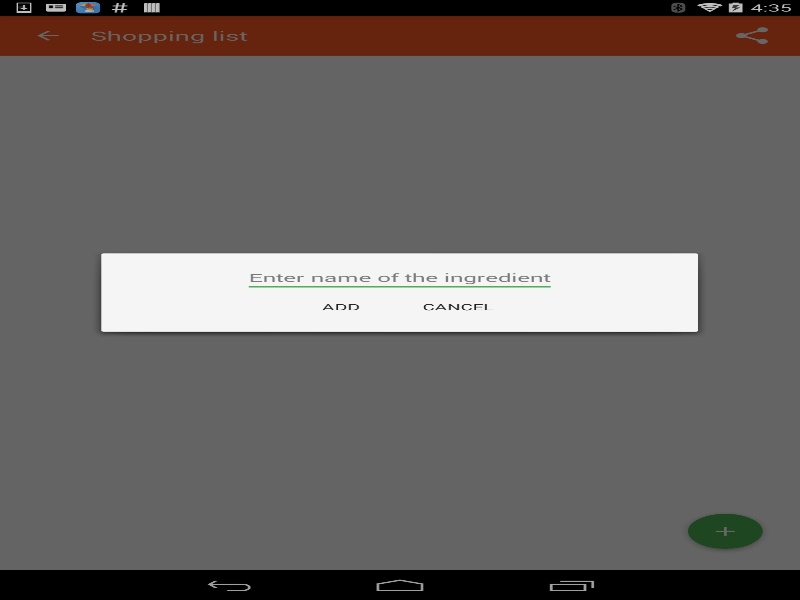Button: (282, 291, 399, 321), (399, 291, 516, 321)
Input: (243, 263, 556, 291)
